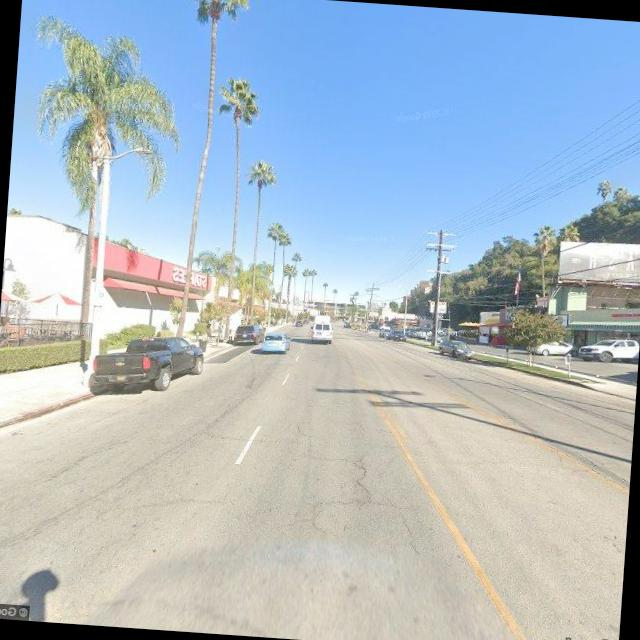crack: (288, 441, 426, 546)
